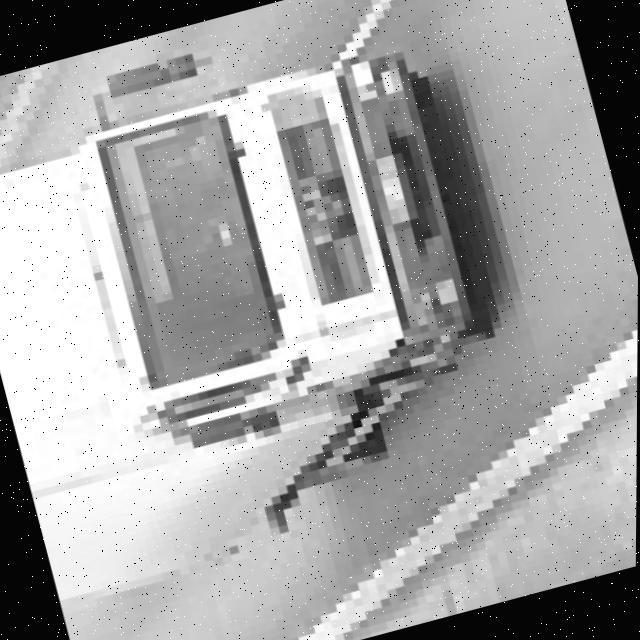truck: (0, 0, 550, 598)
